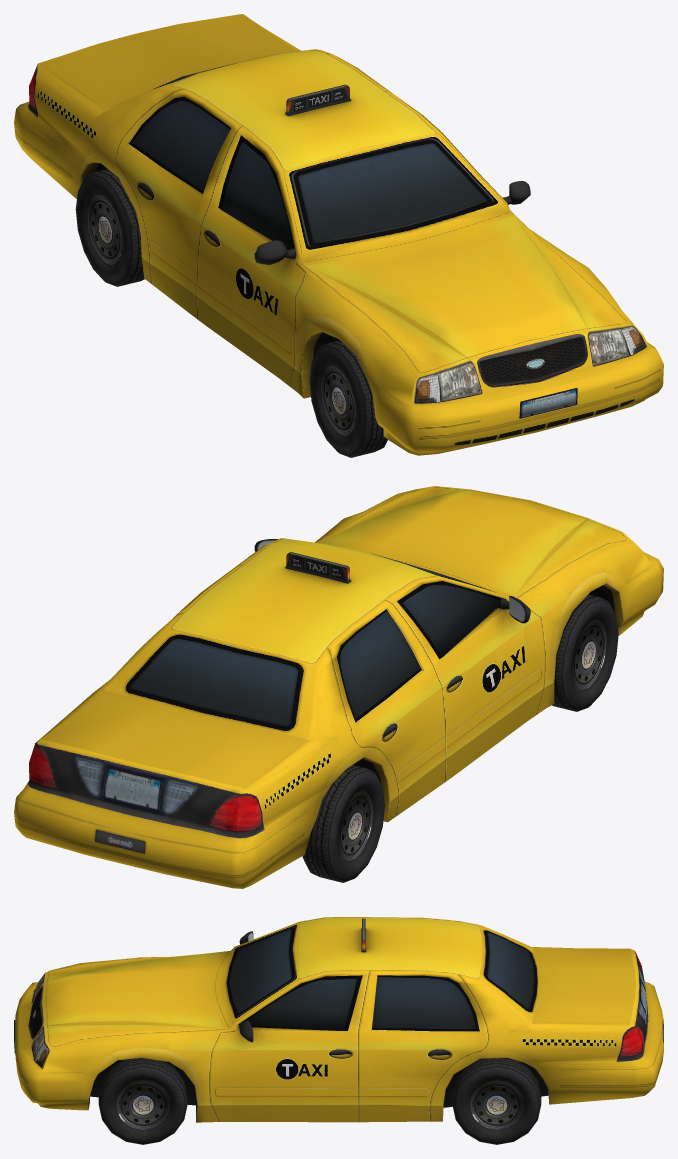
Rendered from taxi.fbx.
3 renders of one model, top to bottom at view 1: azimuth 30°, elevation 25°; view 2: azimuth 150°, elevation 25°; view 3: azimuth 270°, elevation 25°, orthographic. The views are drawn at different scales.
Visible parts, largest first — view 1: Taxi_body, Taxi_FR_wheel, Taxi_BR_wheel, Taxi_FR_light, Taxi_FL_light; view 2: Taxi_body, Taxi_BR_wheel, Taxi_FR_wheel, Taxi_BR_light, Taxi_BL_light; view 3: Taxi_body, Taxi_BL_wheel, Taxi_FL_wheel, Taxi_BL_light, Taxi_FL_light.
Boxes of the visible parts, <box> form: Taxi_body: <box>14,14,663,455</box>; Taxi_FR_wheel: <box>309,340,387,457</box>; Taxi_BR_wheel: <box>75,169,144,286</box>; Taxi_FR_light: <box>411,360,480,404</box>; Taxi_FL_light: <box>588,325,648,366</box>; Taxi_body: <box>14,486,663,888</box>; Taxi_BR_wheel: <box>302,765,384,882</box>; Taxi_FR_wheel: <box>552,594,618,711</box>; Taxi_BR_light: <box>208,793,262,831</box>; Taxi_BL_light: <box>29,743,59,789</box>; Taxi_body: <box>14,917,663,1122</box>; Taxi_BL_wheel: <box>452,1058,541,1144</box>; Taxi_FL_wheel: <box>98,1058,187,1144</box>; Taxi_BL_light: <box>620,1026,644,1056</box>; Taxi_FL_light: <box>32,1026,49,1069</box>.
Size of the model in its own units: 205 by 159 by 553.
